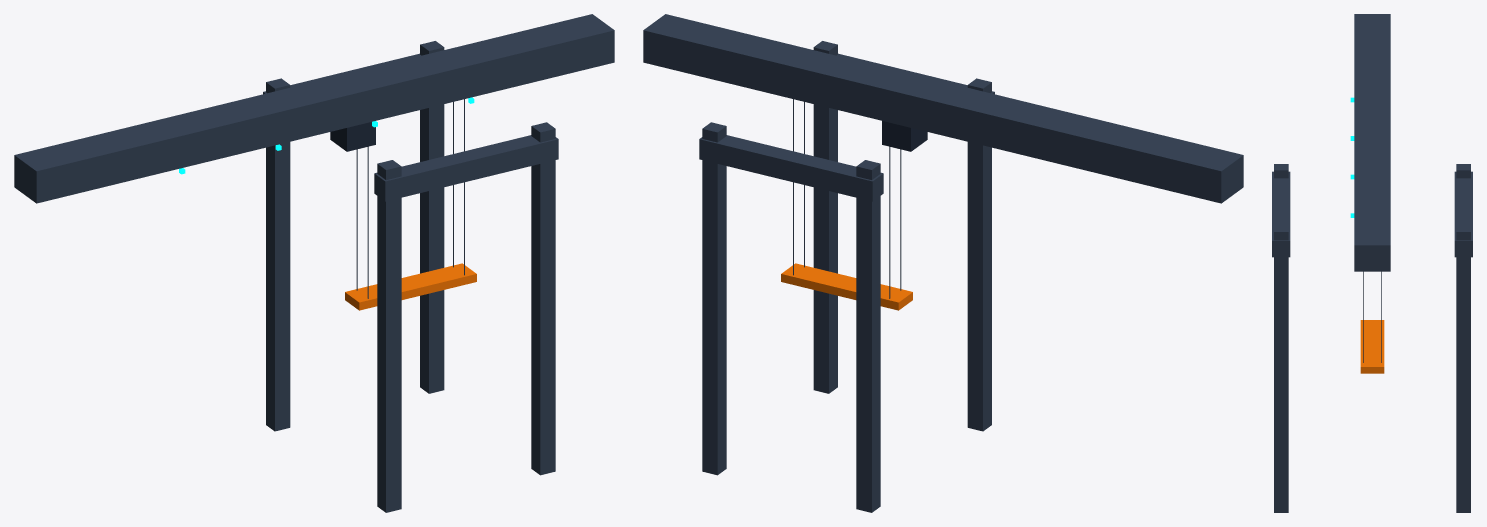
The model's file is carga-crane.glb.
3 renders of one model, left to right at view 1: azimuth 30°, elevation 25°; view 2: azimuth 150°, elevation 25°; view 3: azimuth 270°, elevation 25°, orthographic. The views are drawn at different scales.
Visible parts, largest first — view 1: CargaCraneSTS; view 2: CargaCraneSTS; view 3: CargaCraneSTS.
Part boxes in pixels (left/top/right/bottom): CargaCraneSTS: left=14, top=14, right=614, bottom=512; CargaCraneSTS: left=643, top=14, right=1243, bottom=512; CargaCraneSTS: left=1272, top=14, right=1472, bottom=512.
Bounding box in the file's own units: 60 × 37.6 × 22.
